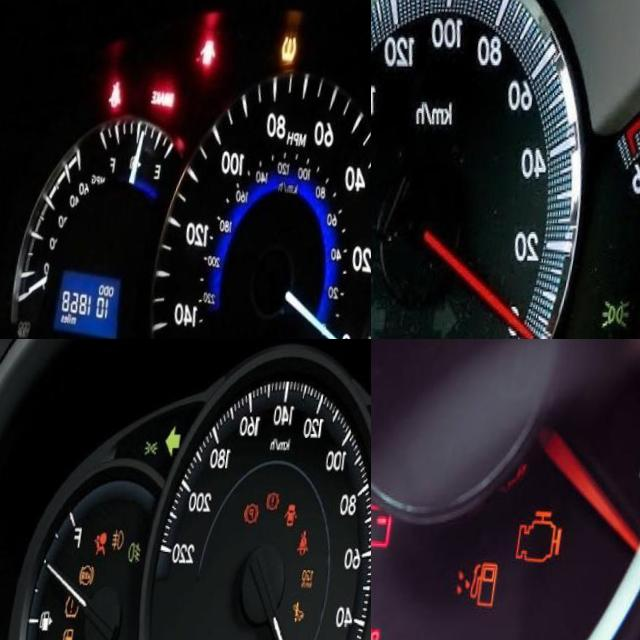Seat Belt: (112, 80, 128, 108), (305, 529, 318, 555)
